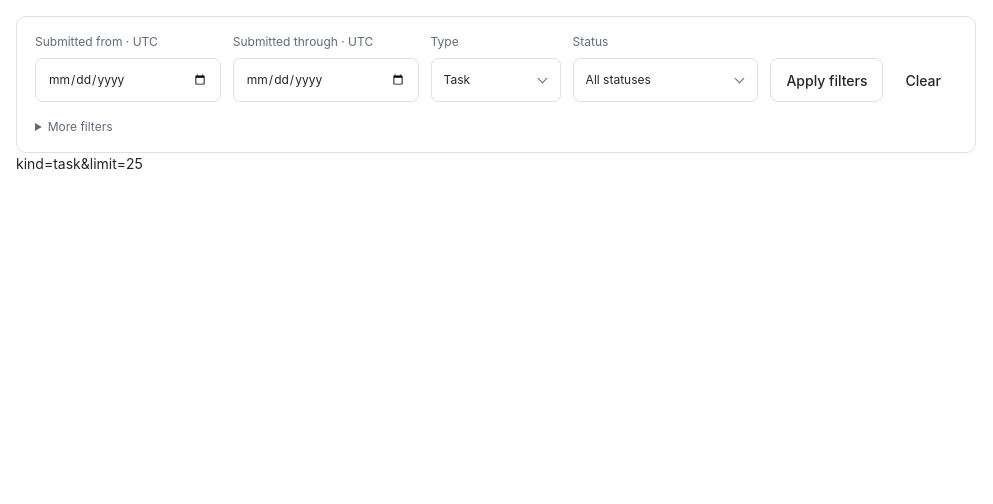
allows opt-in children and clears all filters while retaining row size
What coordinates should you click on to do the following:
click the heading "More filters"
I would click on:
 (80, 126)
Its box is [48,119,112,134].
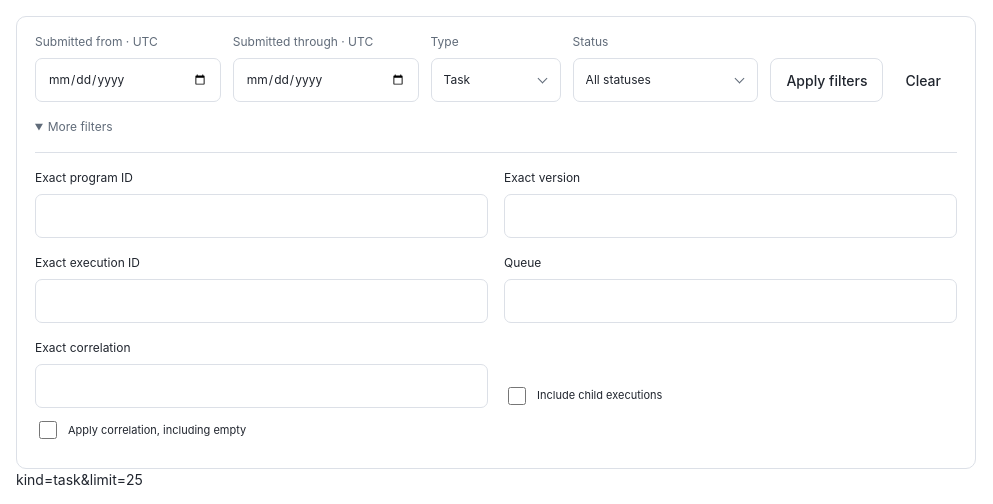
What coordinates should you click on to do the following:
click the checkbox labelled "Include child executions"
I would click on:
 (517, 396)
Its box is [508,386,526,404].
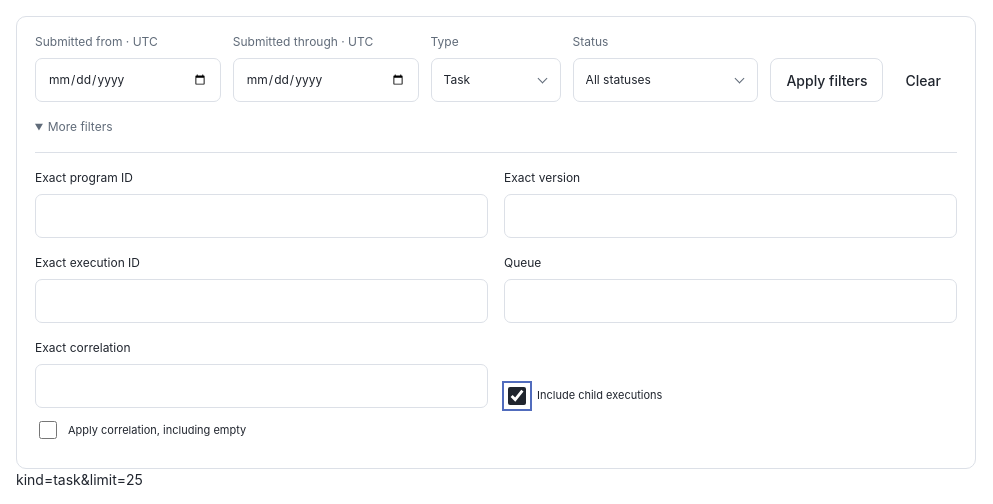
What coordinates should you click on to do the following:
click the button "Apply filters"
I would click on:
 (827, 80)
Its box is [770,58,884,102].
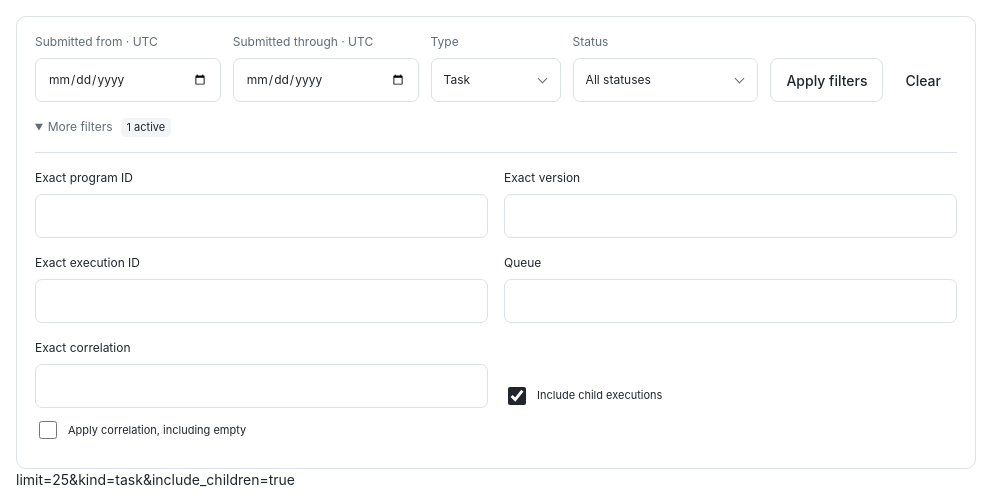
What coordinates should you click on to do the following:
click the button "Clear"
I would click on:
 (923, 80)
Its box is [890,58,957,102].
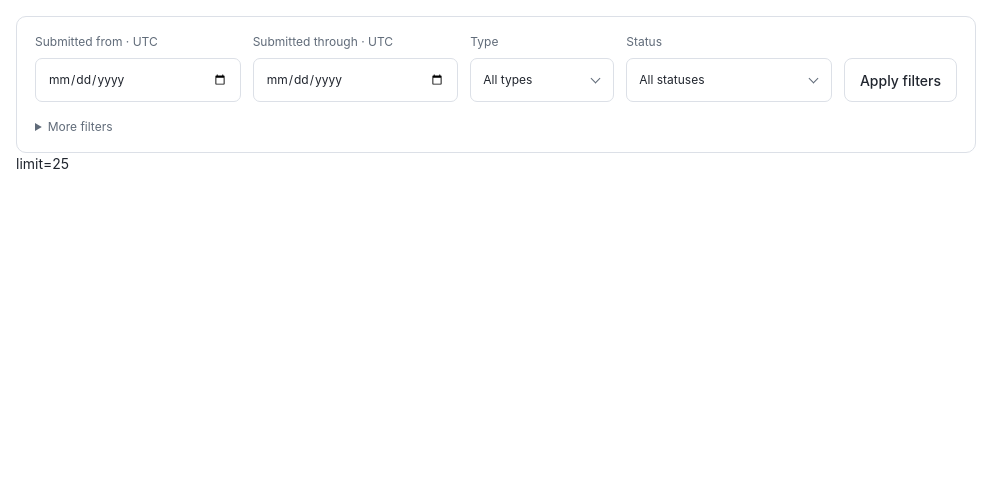
Result: the dropdown labelled "Type" shows "All types" at [470,58,614,102]
